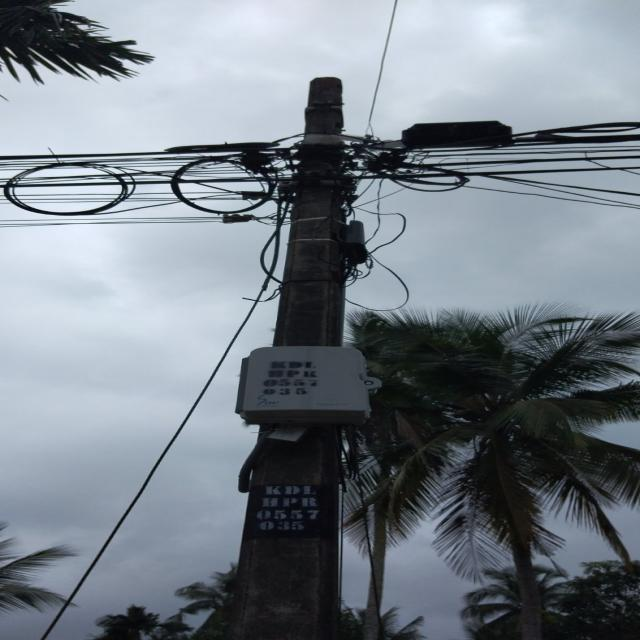light_pole: (206, 75, 358, 640)
